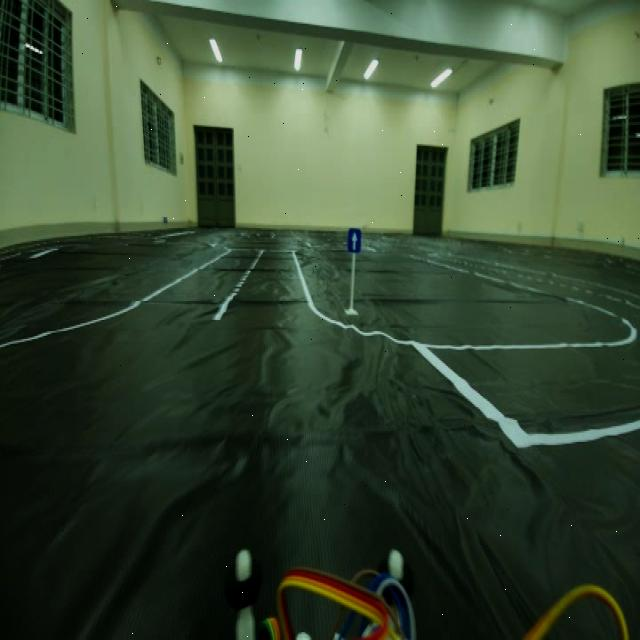onewayroad: (343, 221, 362, 256)
